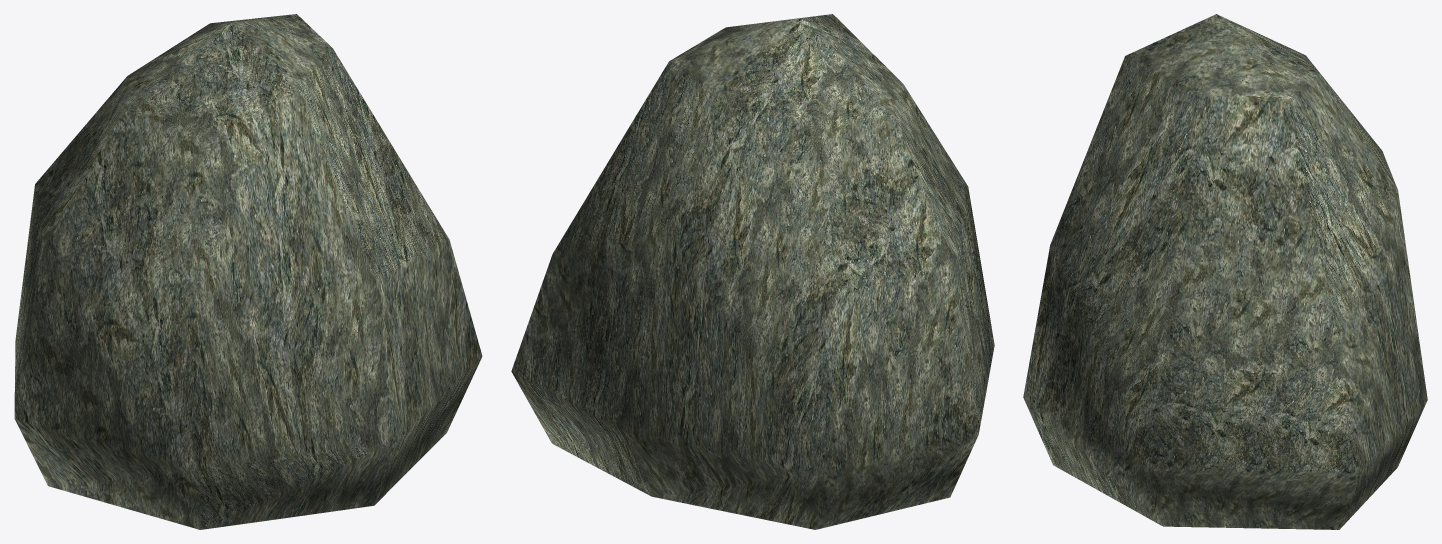
The model's file is mtns_rock_grey_a7_l0.fbx.
The picture shows the model from 3 angles, left to right: view 1: azimuth 30°, elevation 25°; view 2: azimuth 150°, elevation 25°; view 3: azimuth 270°, elevation 25°; orthographic projection. The views are drawn at different scales.
Parts seen in each view (by area): view 1: mesh_node; view 2: mesh_node; view 3: mesh_node.
Boxes of the visible parts, x1,y1,x2,y2 form: mesh_node: [14, 14, 482, 529]; mesh_node: [511, 14, 994, 529]; mesh_node: [1023, 14, 1427, 529].
Bounding box in the file's own units: 0.8454 × 0.9054 × 0.7181.
1 material, 1 textured.
